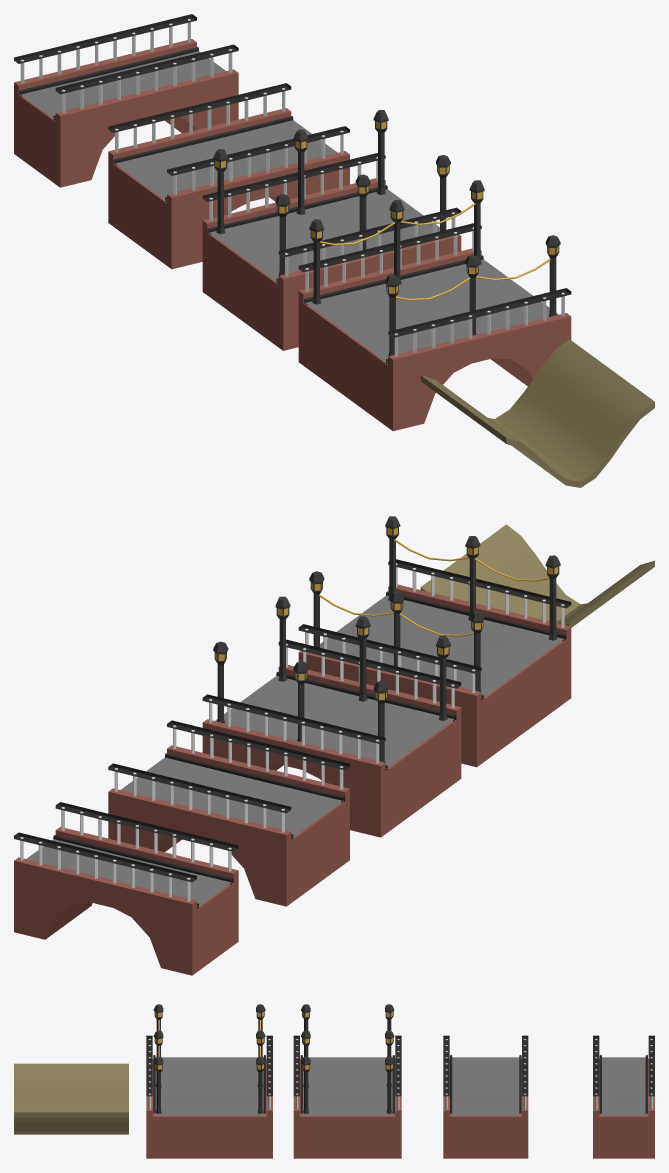
Rendered from bridges (2).fbx.
The picture shows the model from 3 angles, top to bottom: view 1: azimuth 30°, elevation 25°; view 2: azimuth 150°, elevation 25°; view 3: azimuth 270°, elevation 25°; orthographic projection. The views are drawn at different scales.
Visible parts, largest first — view 1: bridge_t4, bridge_t3, bridge_t2, bridge_t1, river_plane; view 2: bridge_t3, bridge_t4, bridge_t2, bridge_t1, river_plane; view 3: bridge_t4, bridge_t3, bridge_t2, river_plane, bridge_t1.
Boxes of the visible parts, box(x1,y1,x2,y2) form: bridge_t4: box(298, 180, 571, 431); bridge_t3: box(202, 110, 461, 350); bridge_t2: box(108, 83, 349, 269); bridge_t1: box(14, 14, 238, 187); river_plane: box(420, 339, 654, 487); bridge_t3: box(202, 596, 461, 837); bridge_t4: box(298, 516, 571, 767); bridge_t2: box(108, 720, 349, 906); bridge_t1: box(14, 802, 238, 975); river_plane: box(420, 524, 654, 627); bridge_t4: box(146, 1004, 272, 1158); bridge_t3: box(293, 1004, 401, 1158); bridge_t2: box(443, 1035, 528, 1158); river_plane: box(14, 1063, 128, 1134); bridge_t1: box(593, 1035, 654, 1158).
Size of the model in its own units: 600 by 489 by 2785.
